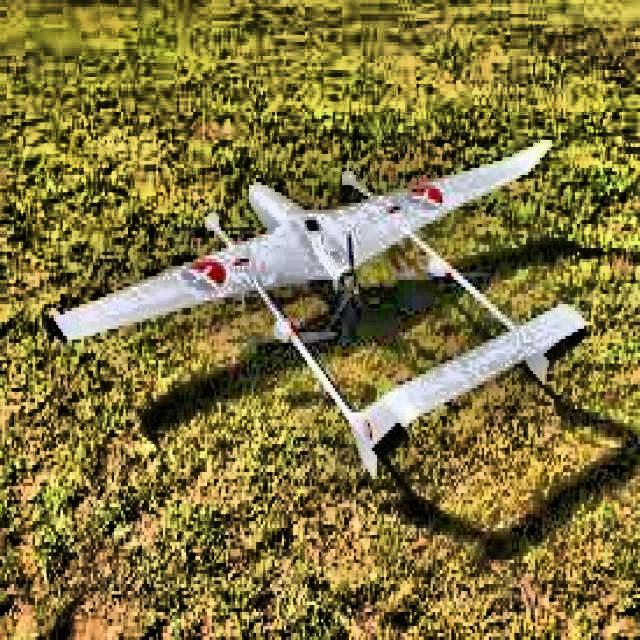iha: (44, 136, 597, 487)
